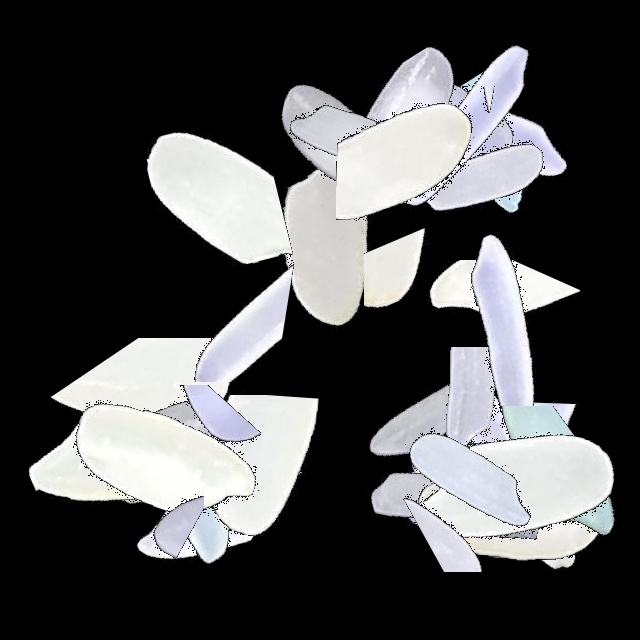Broken: (342, 22, 511, 272), (69, 120, 319, 288), (418, 33, 582, 283), (138, 395, 388, 559), (344, 347, 594, 508), (336, 36, 496, 286), (390, 433, 640, 588), (36, 338, 286, 489), (390, 406, 640, 556), (120, 370, 266, 620), (346, 429, 596, 571), (92, 246, 342, 382), (150, 312, 284, 562), (481, 341, 607, 591), (356, 448, 606, 572), (374, 260, 624, 381), (59, 385, 309, 504), (100, 369, 204, 619), (171, 313, 267, 563), (311, 86, 561, 182), (0, 381, 250, 473), (364, 158, 456, 408), (420, 14, 508, 264), (132, 247, 216, 497), (44, 368, 294, 451), (424, 353, 505, 603), (84, 464, 334, 539)
Full: (387, 343, 637, 593), (306, 289, 556, 539), (348, 0, 598, 250), (335, 361, 585, 611), (348, 366, 598, 616), (333, 0, 583, 250), (11, 310, 261, 560), (206, 112, 456, 362), (351, 49, 601, 299), (308, 375, 558, 625), (212, 13, 462, 263), (48, 345, 298, 595), (390, 377, 640, 627), (55, 298, 305, 548), (230, 15, 480, 265), (0, 340, 250, 590), (47, 320, 297, 570), (379, 207, 629, 457), (40, 337, 290, 587), (342, 0, 592, 250), (386, 390, 636, 640), (389, 363, 639, 613), (348, 355, 598, 605)
